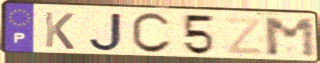5: (179, 13, 216, 57)
C: (129, 11, 174, 56)
J: (86, 11, 125, 53)
K: (42, 10, 76, 51)
M: (262, 17, 320, 59)
Z: (222, 16, 266, 57)
